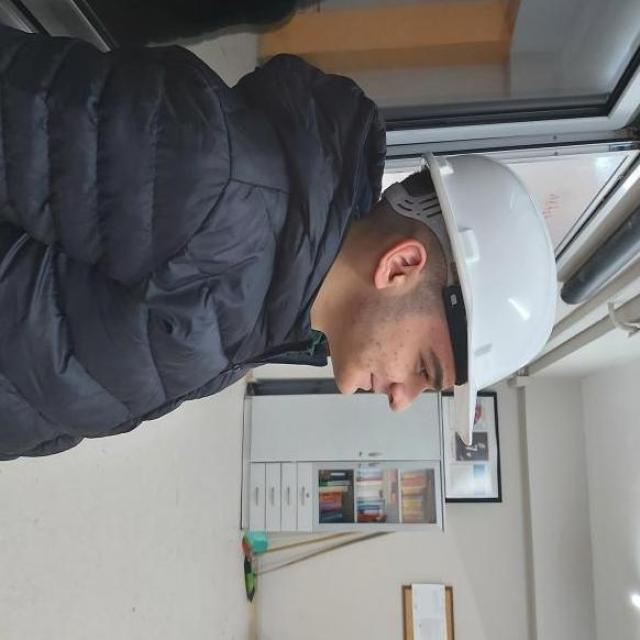white helmet: (416, 140, 559, 460)
